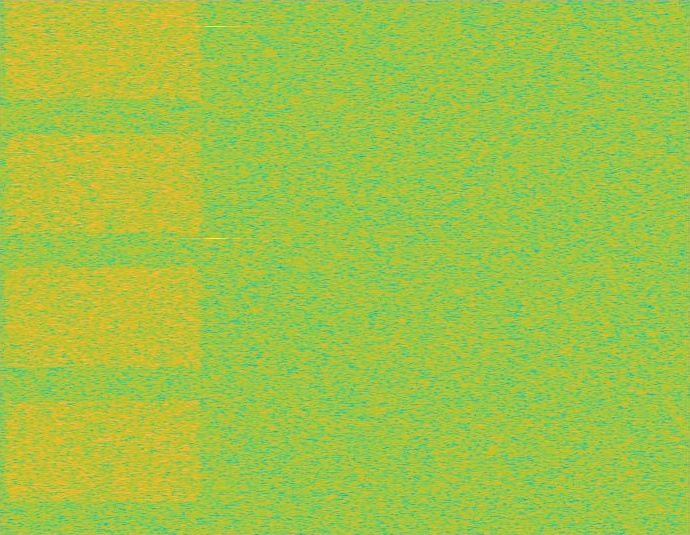5G: (0, 0, 207, 534)
Radar: (209, 0, 223, 534)
